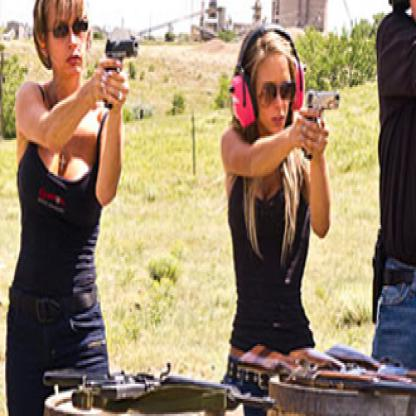gun: (227, 322, 415, 414), (37, 350, 286, 414), (94, 30, 148, 102), (294, 76, 346, 149)
